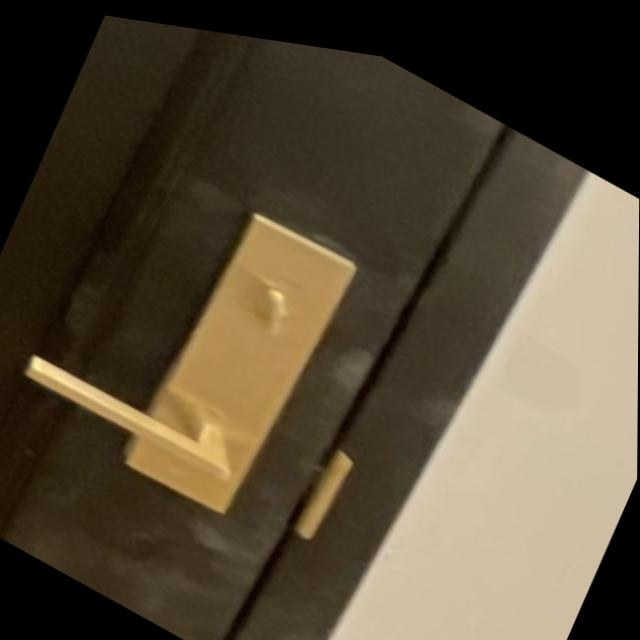door_handle: (0, 285, 284, 525)
